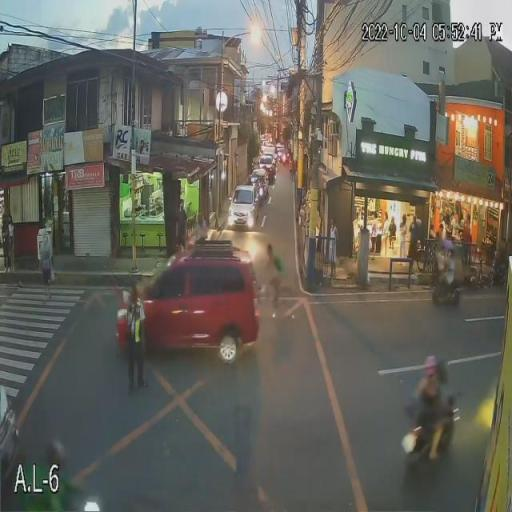helmet: (424, 355, 439, 383)
rider: (418, 359, 443, 462)
